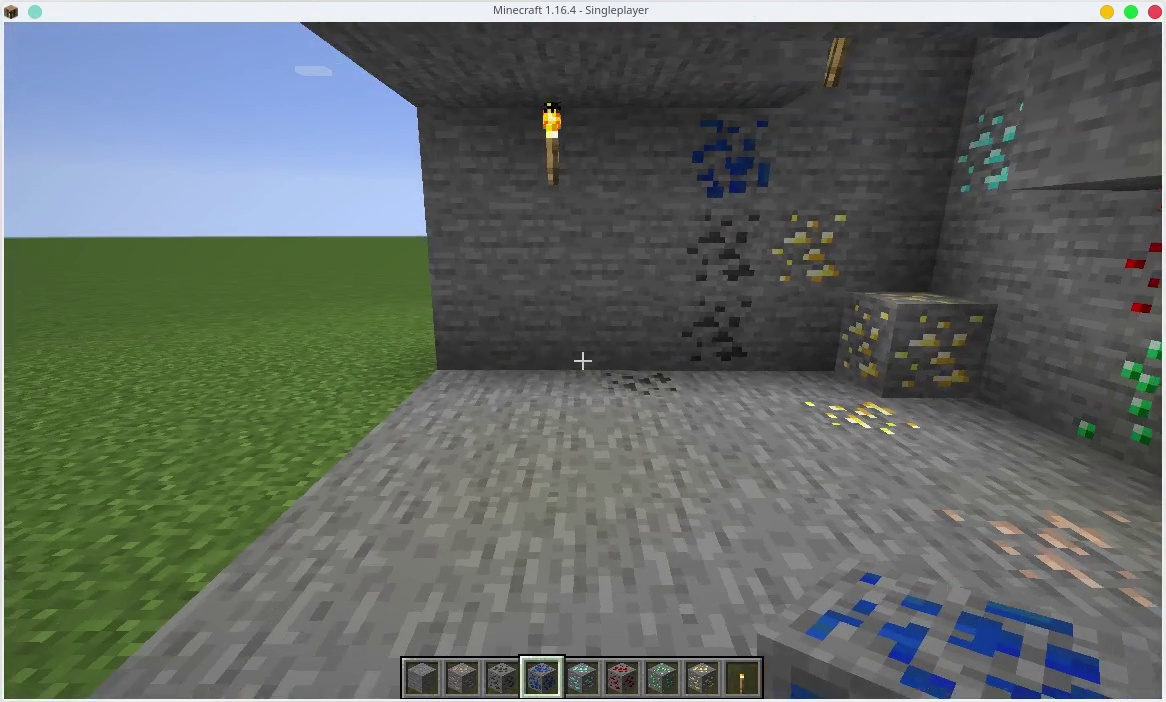gold: (843, 295, 998, 390), (761, 204, 859, 289), (785, 389, 938, 441)
